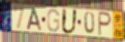0: (83, 11, 95, 36)
7: (12, 4, 26, 32)
A: (26, 7, 43, 32)
G: (47, 8, 60, 34)
P: (98, 11, 113, 38)
U: (61, 8, 79, 36)
